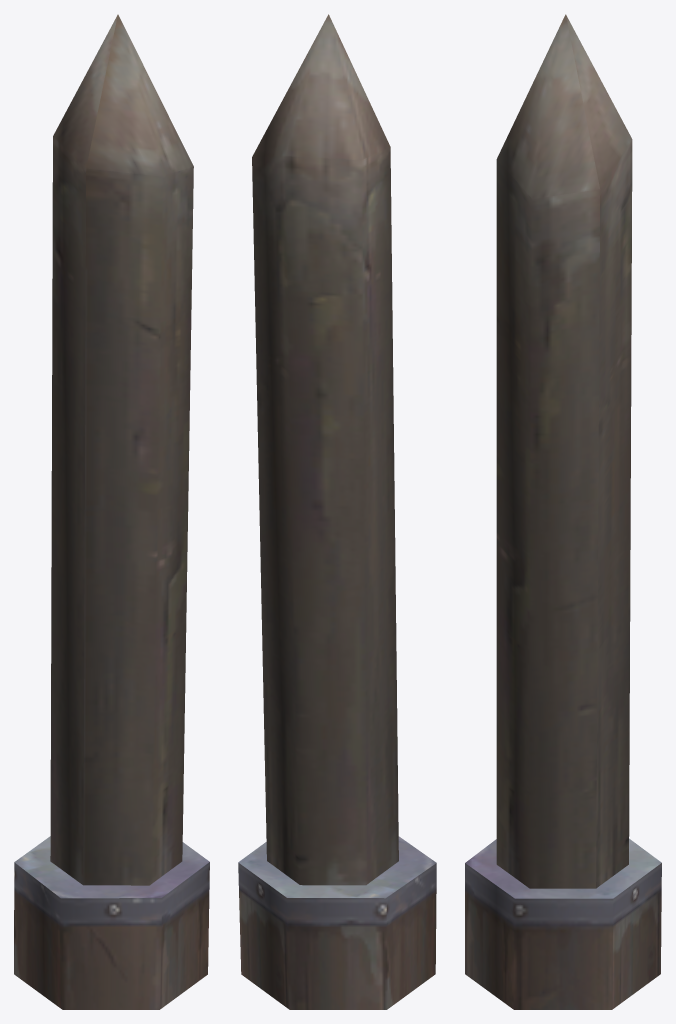
The model's file is Homeworld_Exterior_Dq_Build_House_31_Vo.fbx.
3 renders of one model, left to right at view 1: azimuth 30°, elevation 25°; view 2: azimuth 150°, elevation 25°; view 3: azimuth 270°, elevation 25°, orthographic.
Parts seen in each view (by area): view 1: Area_Common_Build_Railing_03_Vo; view 2: Area_Common_Build_Railing_03_Vo; view 3: Area_Common_Build_Railing_03_Vo.
Part boxes in pixels (box(x1,y1,x2,y2)): Area_Common_Build_Railing_03_Vo: box(14, 14, 209, 1009); Area_Common_Build_Railing_03_Vo: box(238, 14, 436, 1009); Area_Common_Build_Railing_03_Vo: box(465, 14, 661, 1009).
Size of the model in its own units: 0.6277 by 3.85 by 0.7123.
